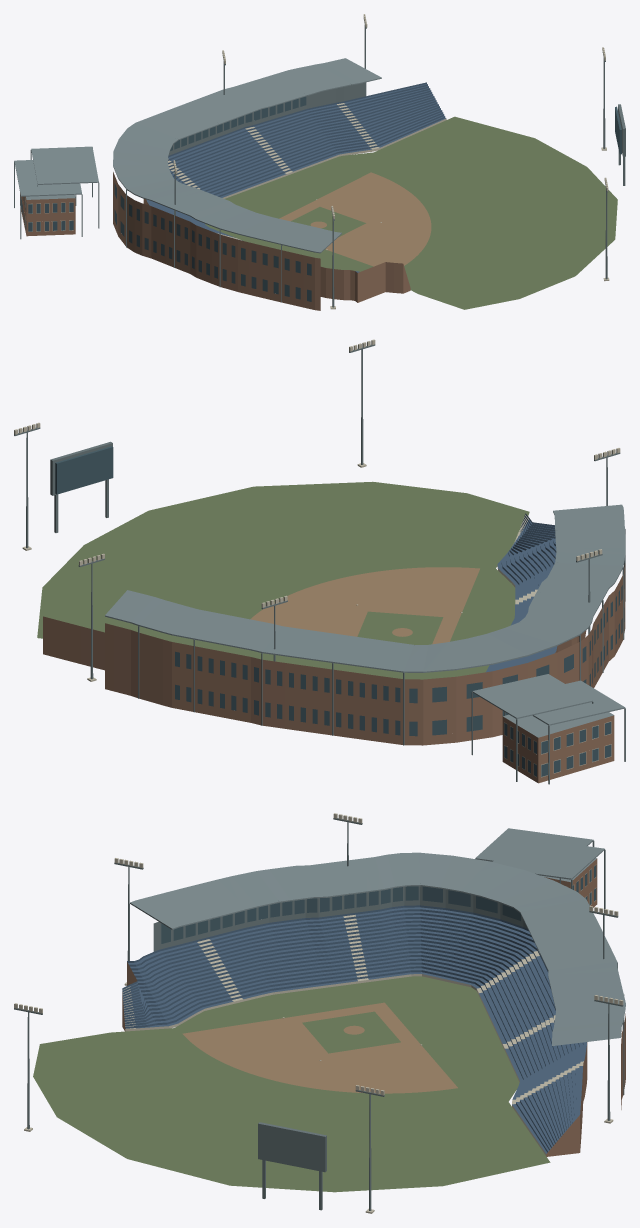
The model's file is coolray-field-near.glb.
3 renders of one model, top to bottom at view 1: azimuth 30°, elevation 25°; view 2: azimuth 150°, elevation 25°; view 3: azimuth 270°, elevation 25°, orthographic. The views are drawn at different scales.
Parts seen in each view (by area): view 1: coolray-field-0-turf, coolray-field-0-roof, coolray-field-0-seat, coolray-field-0-brick, coolray-field-0-dirt, coolray-field-0-glass, coolray-field-0-metal, coolray-field-0-stone; view 2: coolray-field-0-turf, coolray-field-0-brick, coolray-field-0-roof, coolray-field-0-dirt, coolray-field-0-glass, coolray-field-0-metal, coolray-field-0-seat, coolray-field-0-stone; view 3: coolray-field-0-turf, coolray-field-0-seat, coolray-field-0-roof, coolray-field-0-dirt, coolray-field-0-metal, coolray-field-0-stone, coolray-field-0-glass, coolray-field-0-brick.
Boxes of the visible parts, x1,y1,x2,y2 form: coolray-field-0-turf: (205,116,617,309); coolray-field-0-roof: (14,58,381,253); coolray-field-0-seat: (146,82,445,272); coolray-field-0-brick: (20,172,410,310); coolray-field-0-dirt: (279,172,431,266); coolray-field-0-glass: (20,96,621,301); coolray-field-0-metal: (14,20,625,307); coolray-field-0-stone: (25,14,609,309); coolray-field-0-turf: (37,481,529,679); coolray-field-0-brick: (43,563,625,783); coolray-field-0-roof: (105,504,625,737); coolray-field-0-dirt: (250,567,479,644); coolray-field-0-glass: (55,446,624,776); coolray-field-0-metal: (14,344,625,784); coolray-field-0-seat: (486,513,557,672); coolray-field-0-stone: (14,339,620,777); coolray-field-0-turf: (33,976,550,1192); coolray-field-0-seat: (122,905,586,1153); coolray-field-0-roof: (130,828,625,1045); coolray-field-0-dirt: (182,1002,457,1093); coolray-field-0-metal: (14,818,624,1210); coolray-field-0-stone: (14,813,623,1213); coolray-field-0-glass: (161,865,596,943); coolray-field-0-brick: (122,858,625,1156).
Size of the model in its own units: 201 by 34.9 by 156.
